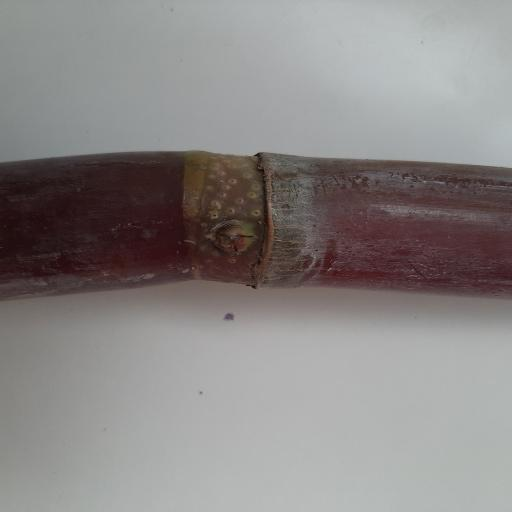Bud: (205, 218, 257, 255)
